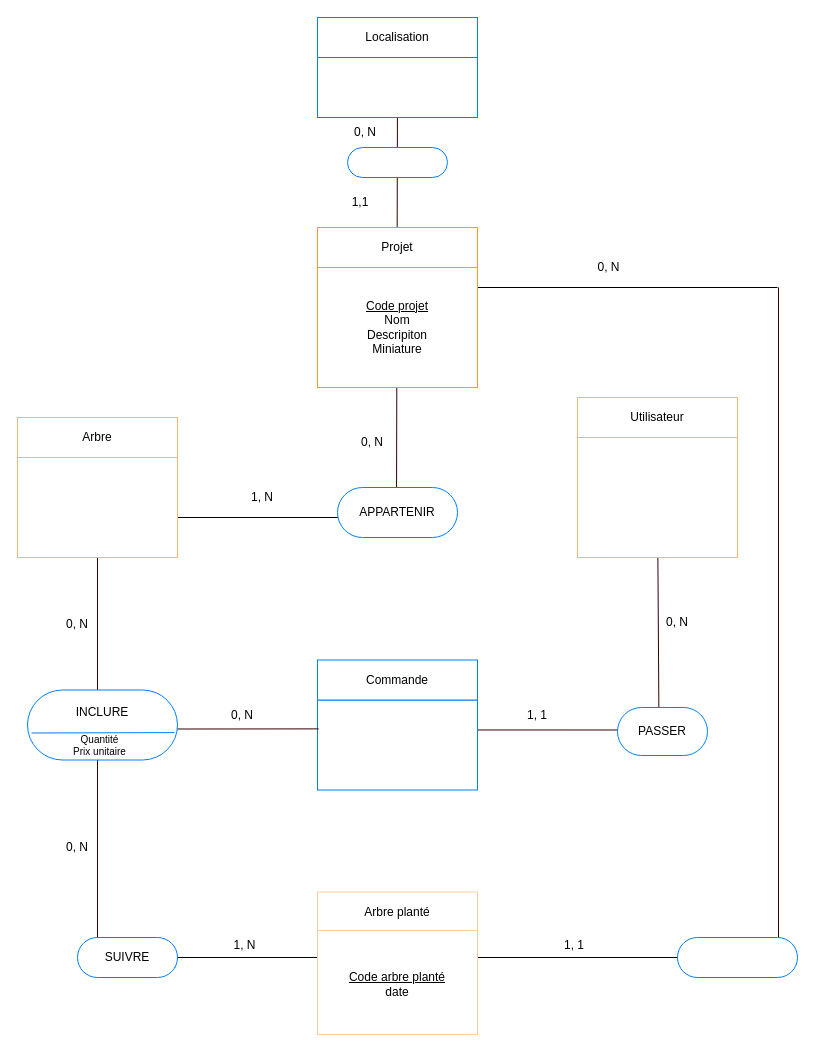
The diagram is 815 pixels wide and 1052 high, and some of its shapes have lost their labels. The centre of each missing label's shape, as x and y in pixels:
"Code arbre Nom Description Prix Miniature" belongs at (97,507).
"Code commande Statut date" belongs at (397,744).
"Code localisation Pays Continent" belongs at (397,87).
"Code utilisateur Nom Prénom Mot de passe e-mail téléphone Rôle" belongs at (657,497).
"DÉPENDRE" belongs at (737,957).
"SE SITUE" belongs at (397,162).
